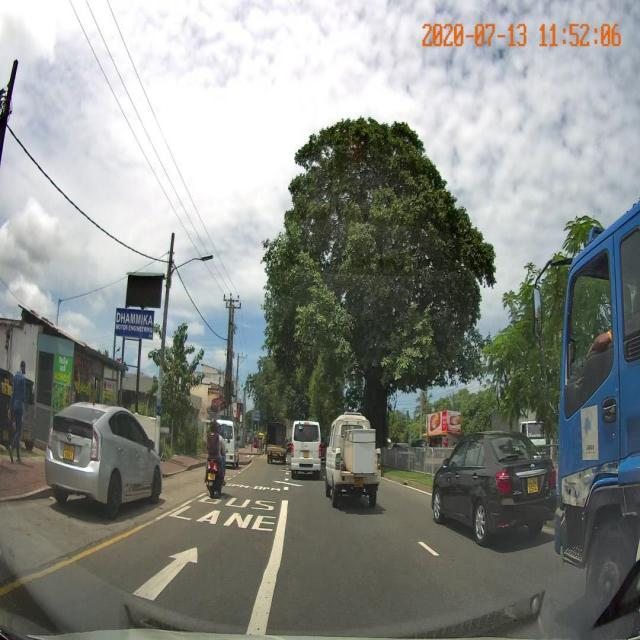BUS LANE: (165, 488, 281, 536)
Liniya 1: (0, 492, 207, 598), (247, 500, 288, 638), (380, 477, 433, 498), (413, 538, 442, 560), (226, 466, 248, 481), (283, 487, 289, 491), (285, 478, 289, 481)
Strelka vpered: (129, 543, 199, 603)
